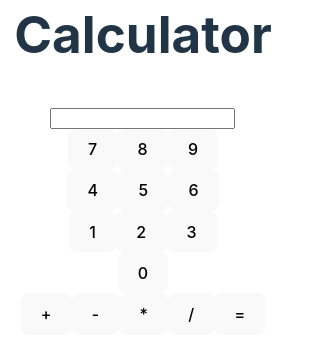
calculator › should calculate based on user input and show the calculation
Click the button "1". click: [93, 232]
box: [69,211,116,252]
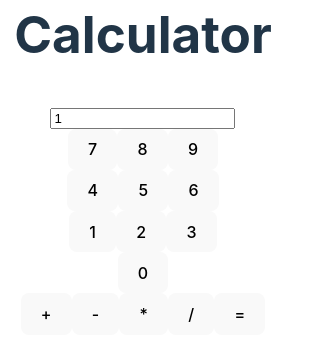
Click the button "+". click: [46, 314]
box: [20,293,72,335]
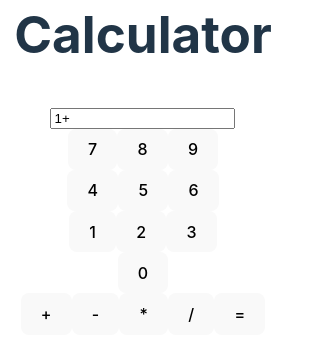
Click the button "1". click: [93, 232]
box: [69,211,116,252]
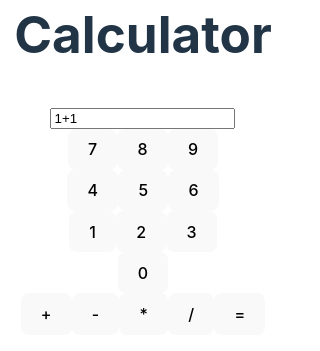
Click the button "=". click: [240, 314]
box: [214,293,266,335]
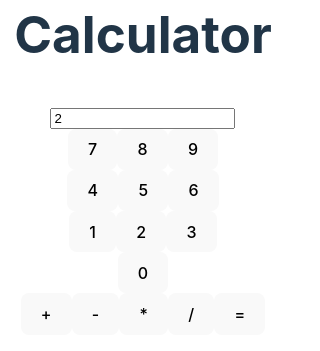
Expected: the field holds "2", [50,108,236,129]
